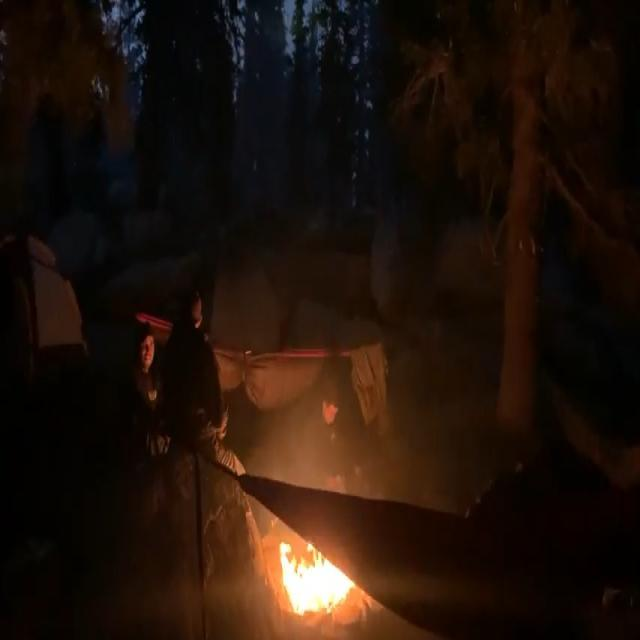Fire: (278, 534, 359, 618)
